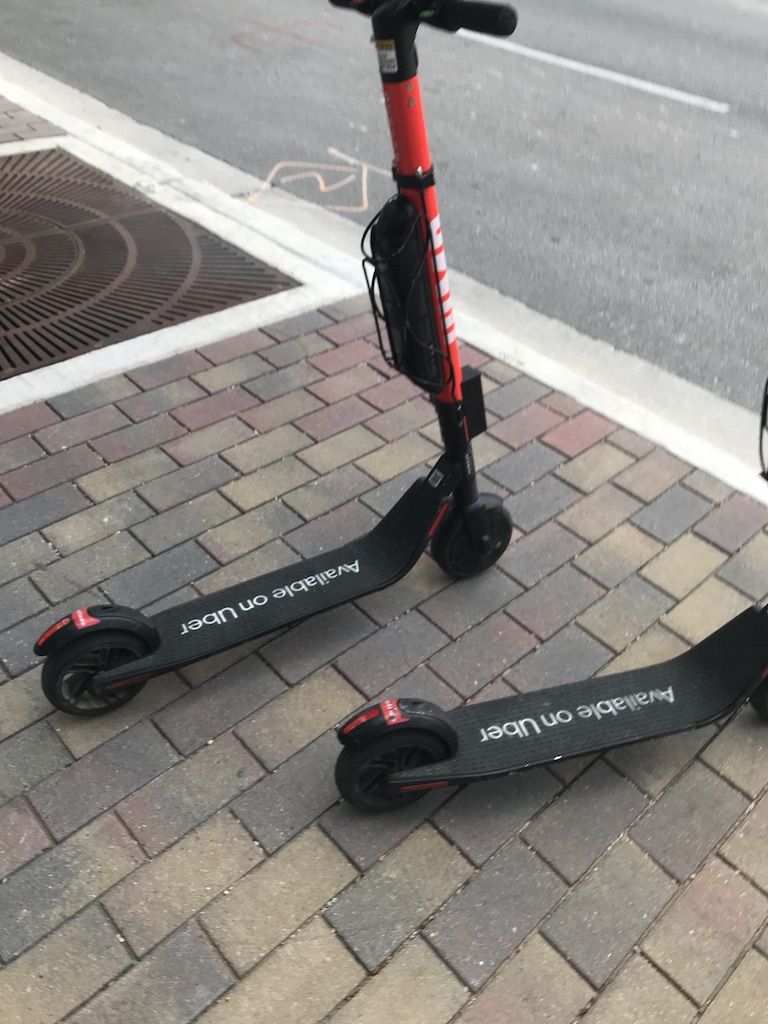scooter: (29, 2, 517, 715), (334, 607, 766, 818)
